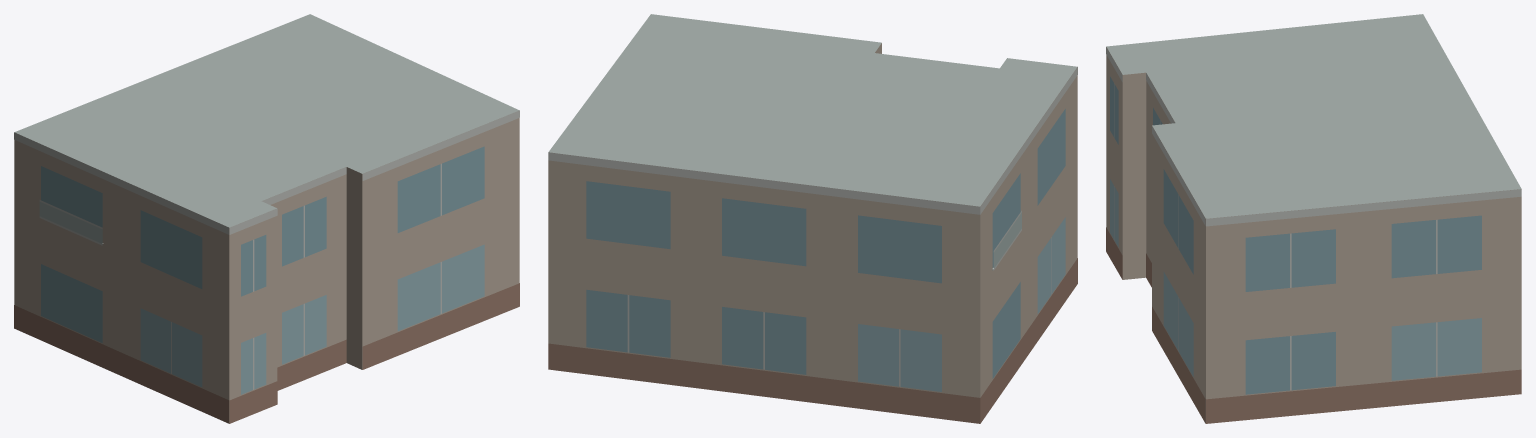
Rendered from survey-upis-32695287.glb.
3 views of the same model, side by side, from view 1: azimuth 30°, elevation 25°; view 2: azimuth 150°, elevation 25°; view 3: azimuth 270°, elevation 25° (orthographic). The views are drawn at different scales.
Visible parts, largest first — view 1: survey-upis-32695287.tmp; view 2: survey-upis-32695287.tmp; view 3: survey-upis-32695287.tmp.
Part boxes in pixels (x1,y1,x2,y2): survey-upis-32695287.tmp: (14, 14, 519, 423); survey-upis-32695287.tmp: (548, 14, 1077, 423); survey-upis-32695287.tmp: (1106, 14, 1521, 423).
Size of the model in its own units: 13.93 by 6.5 by 11.95.
